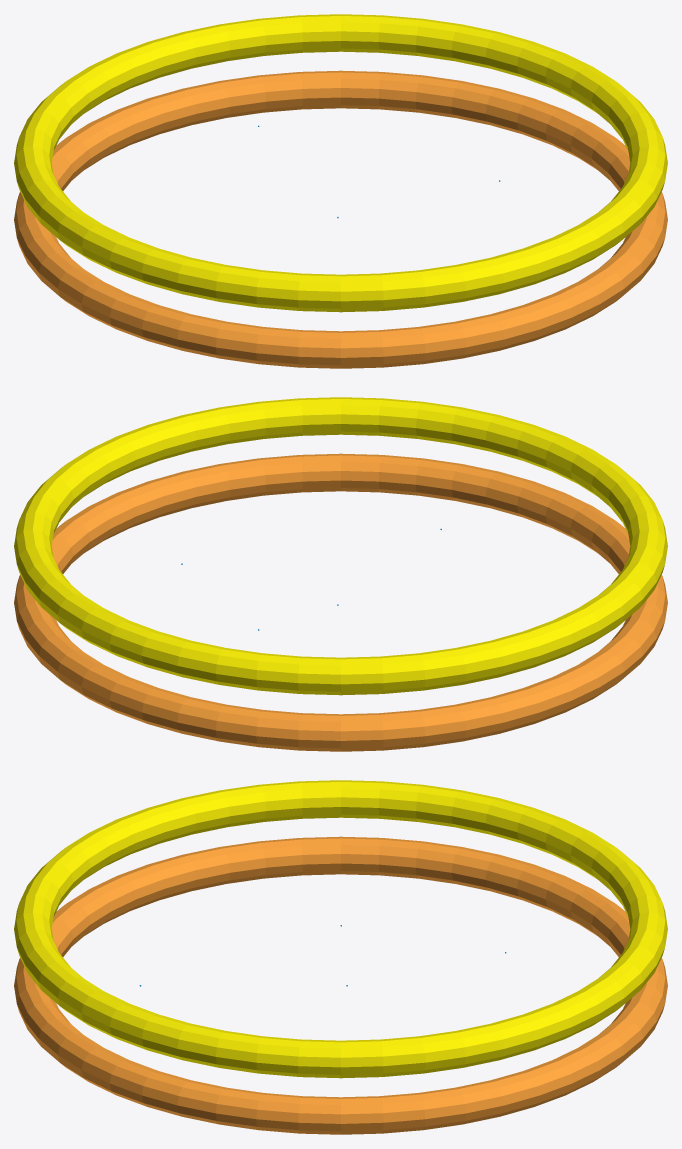
The model's file is surround_cyl_turquoise2.gltf.
3 renders of one model, top to bottom at view 1: azimuth 30°, elevation 25°; view 2: azimuth 150°, elevation 25°; view 3: azimuth 270°, elevation 25°, orthographic.
Visible parts, largest first — view 1: Torus.000, Torus.001; view 2: Torus.000, Torus.001; view 3: Torus.000, Torus.001.
Part boxes in pixels (x1,y1,x2,y2): Torus.000: [14, 14, 667, 312]; Torus.001: [14, 70, 667, 368]; Torus.000: [14, 397, 667, 695]; Torus.001: [14, 453, 667, 751]; Torus.000: [14, 780, 667, 1078]; Torus.001: [14, 836, 667, 1134].
Size of the model in its own units: 212 by 32.5 by 212.
